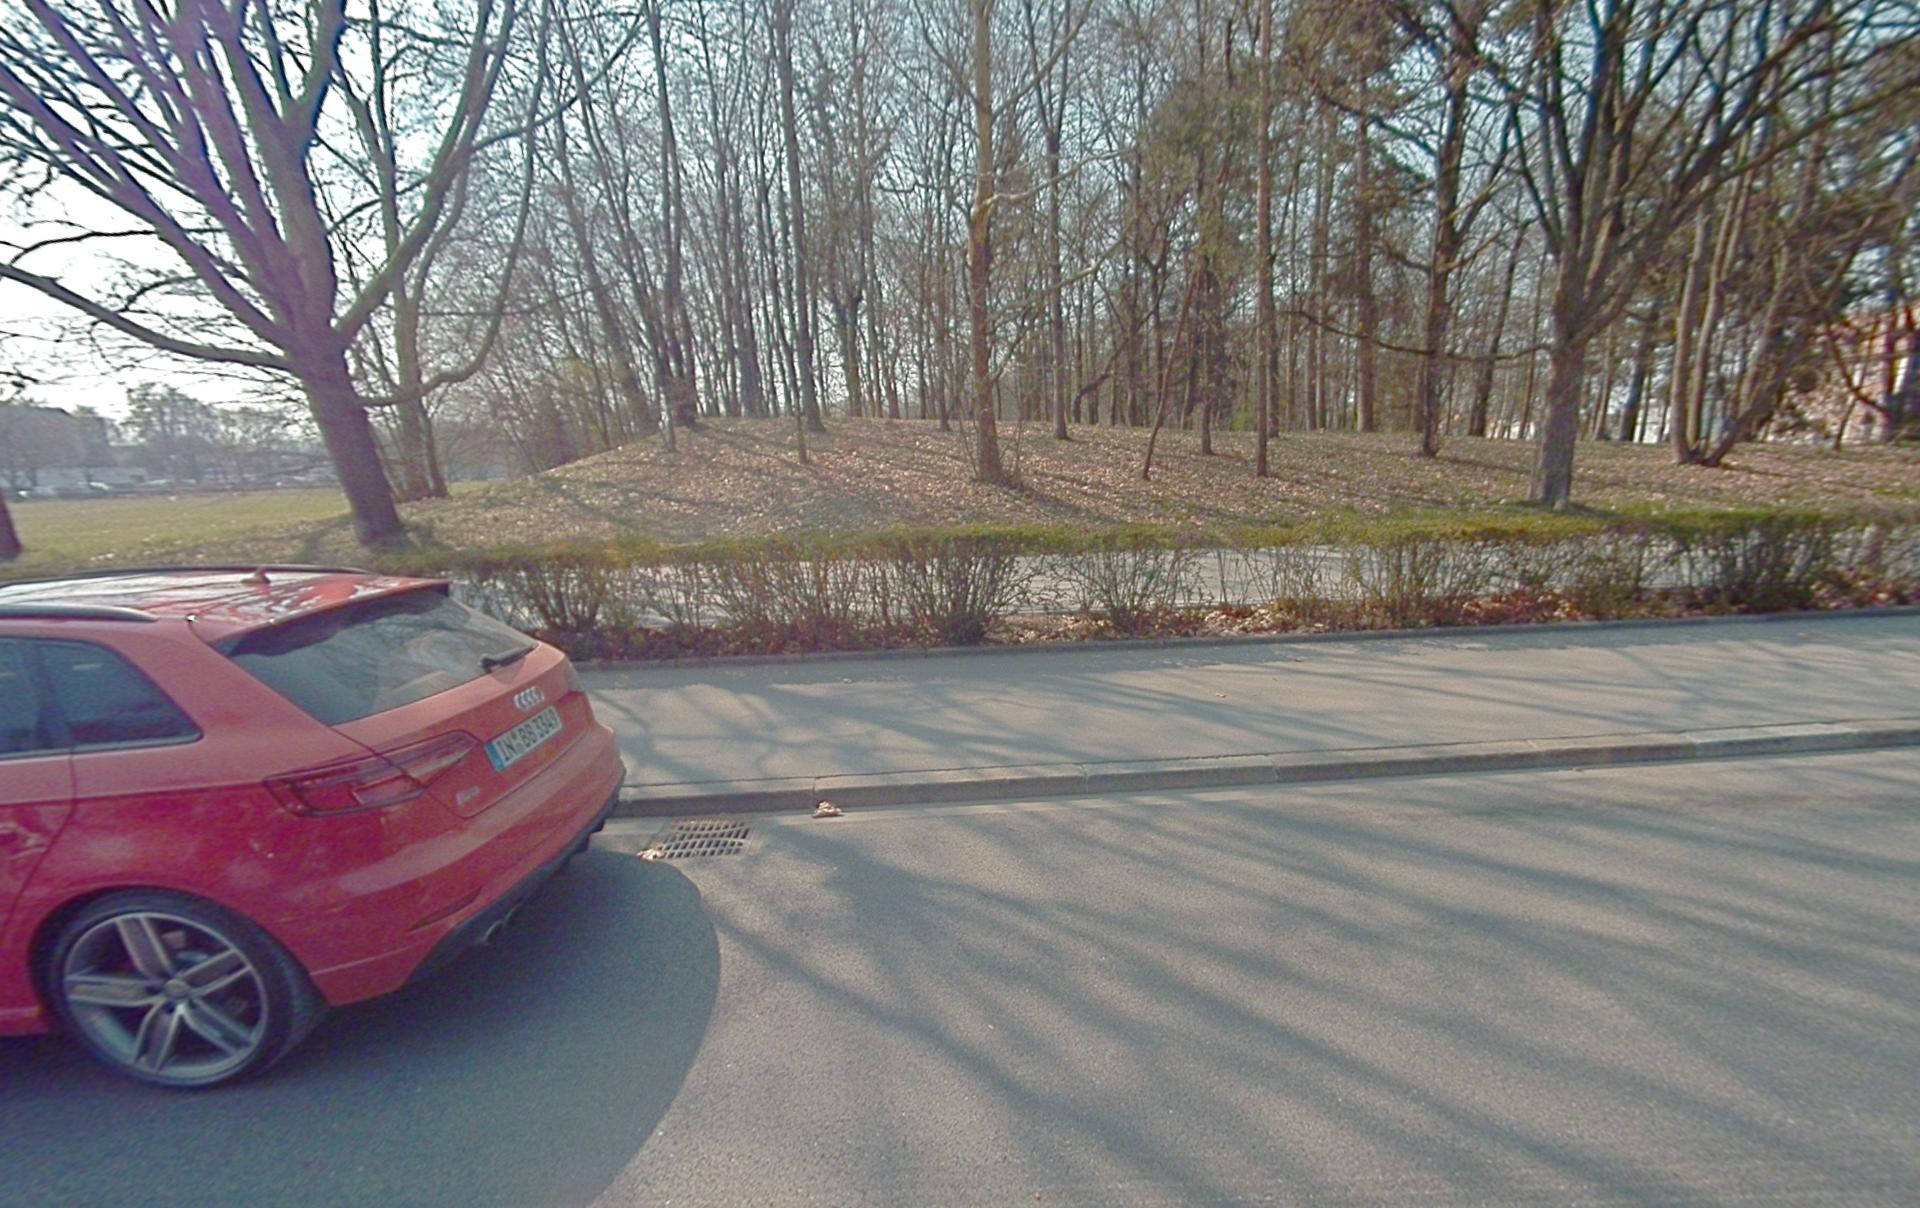car: (0, 564, 626, 1090)
